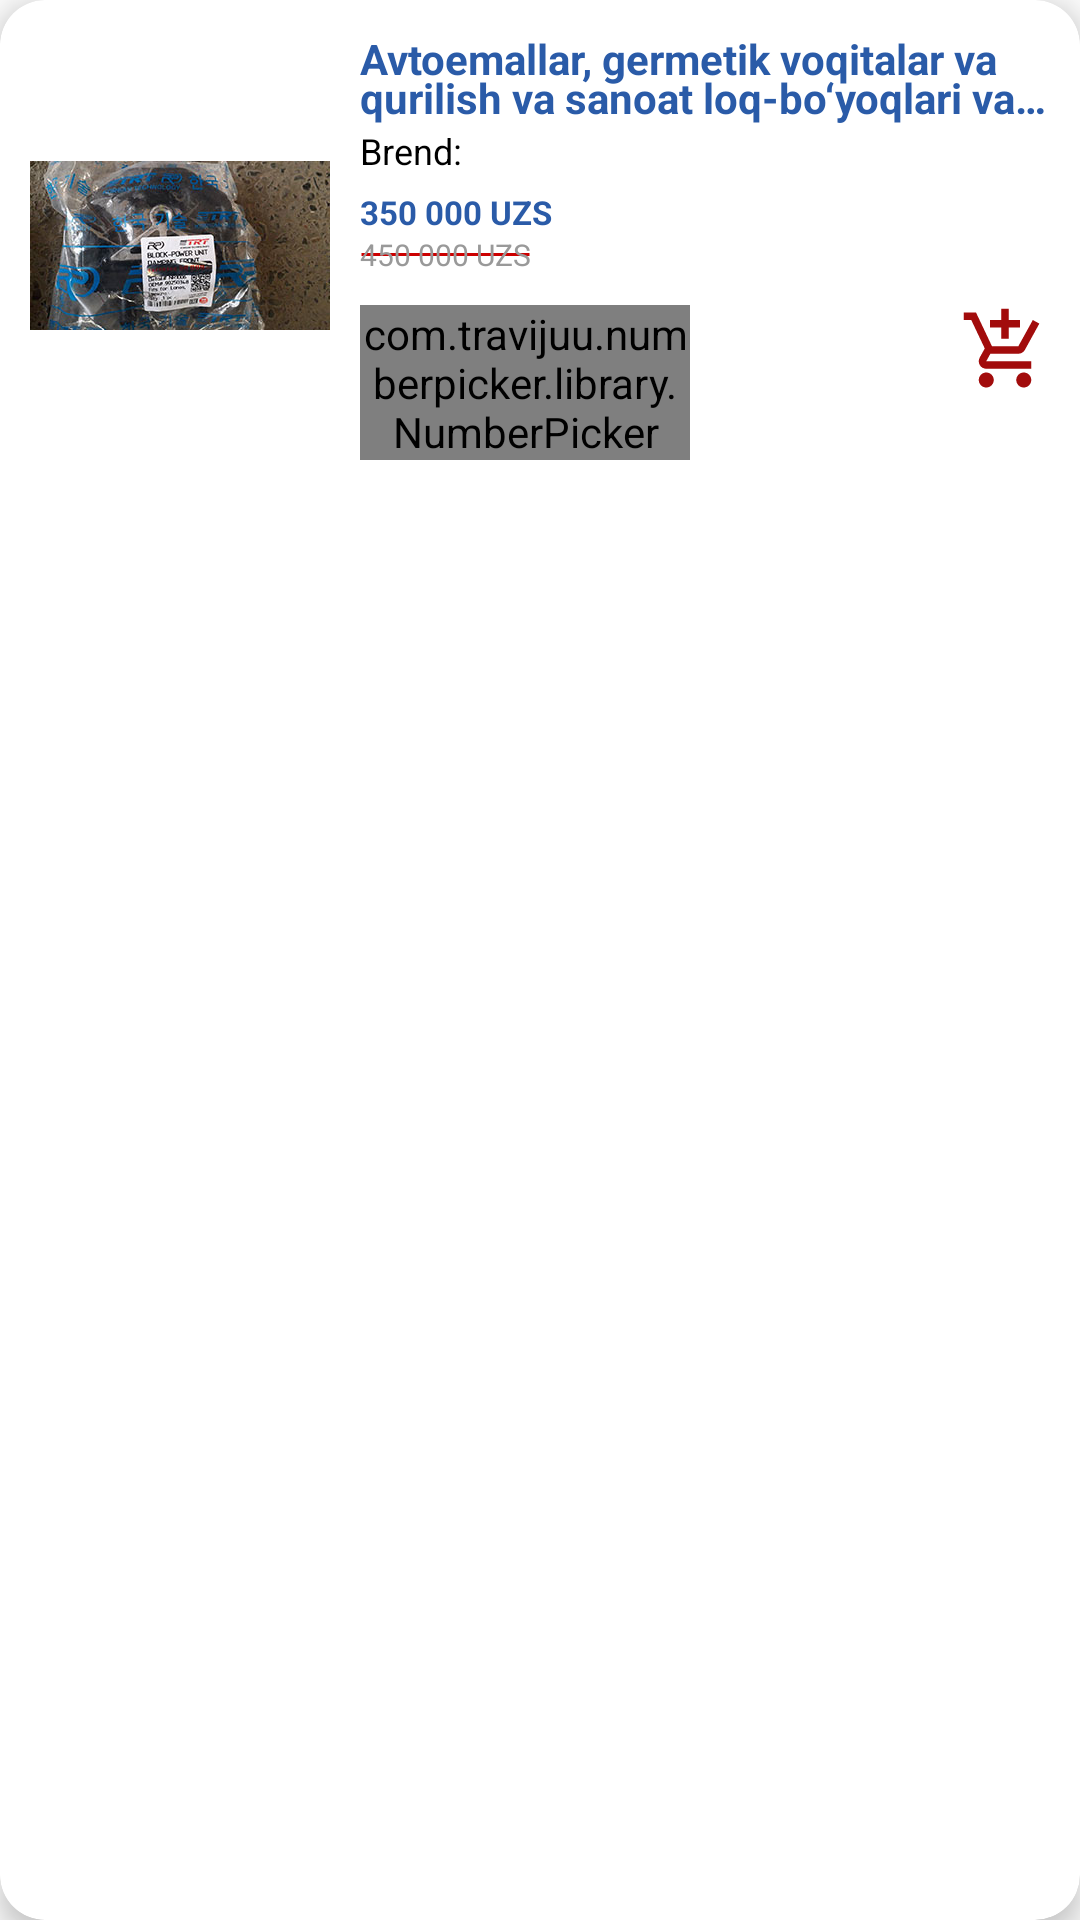

Locate icon controls on the screen. Image size 1080w x 1920h, boxes as (left=x1, top=y1, right=x2, bottom=y2).
product: (left=30, top=161, right=330, bottom=330)
shopping cart: (left=963, top=308, right=1040, bottom=388)
